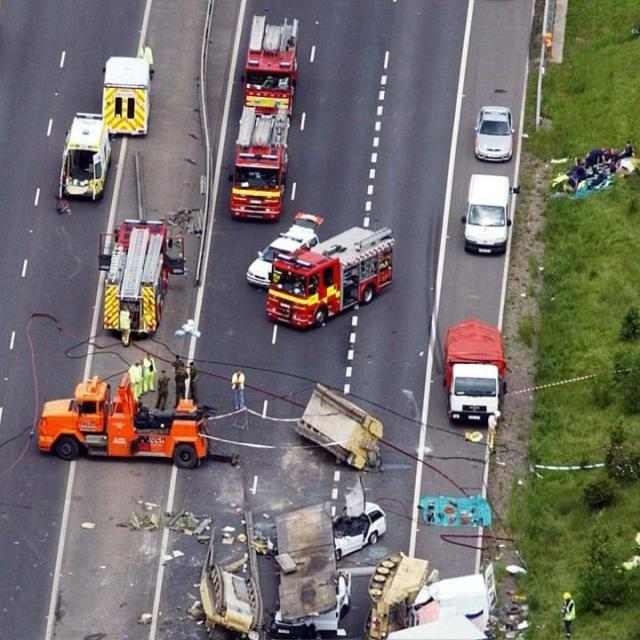traffic_incident: (203, 360, 439, 639)
